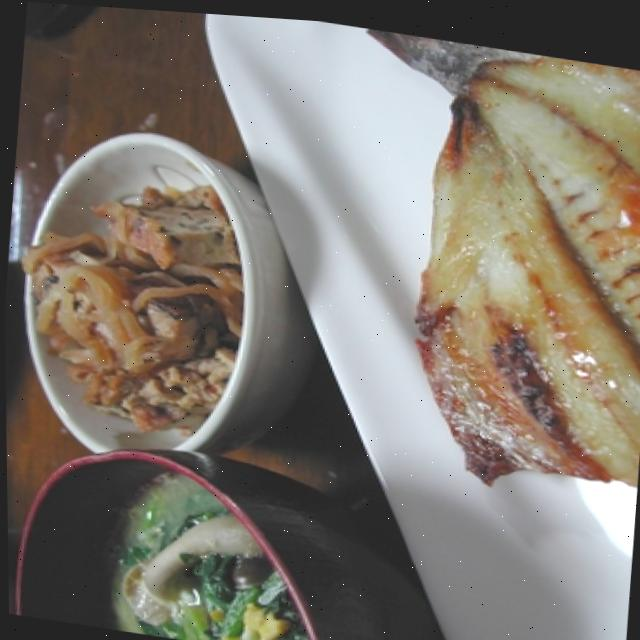熟制海鲜: (300, 16, 640, 503)
